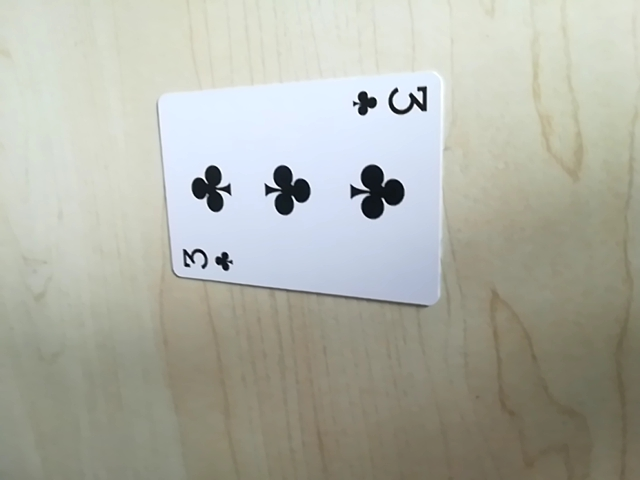mh 3: (351, 79, 428, 122), (173, 242, 238, 280)
